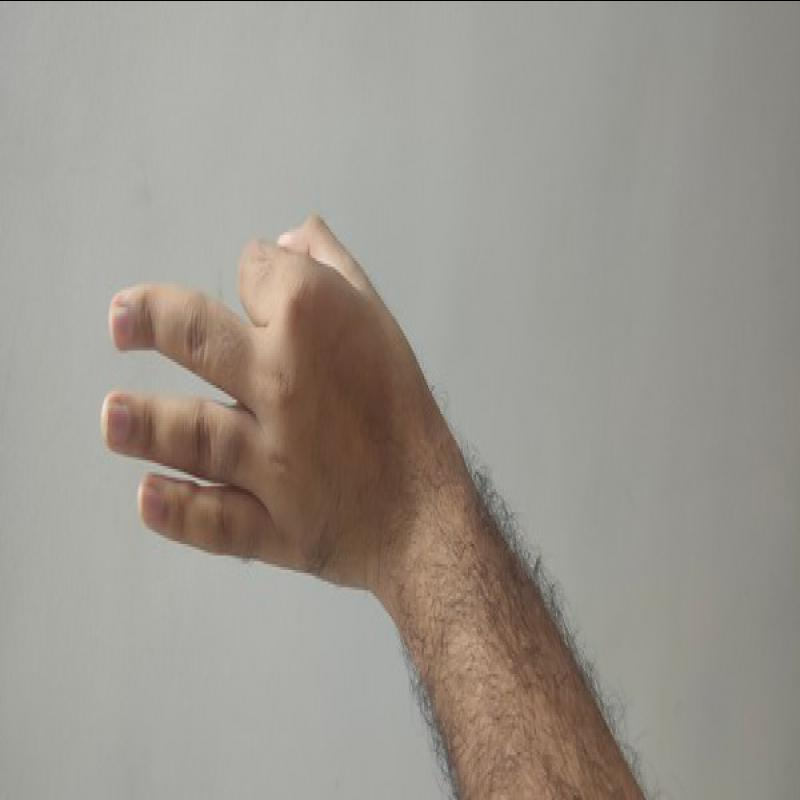Mudraakhyam: (85, 201, 440, 598)
